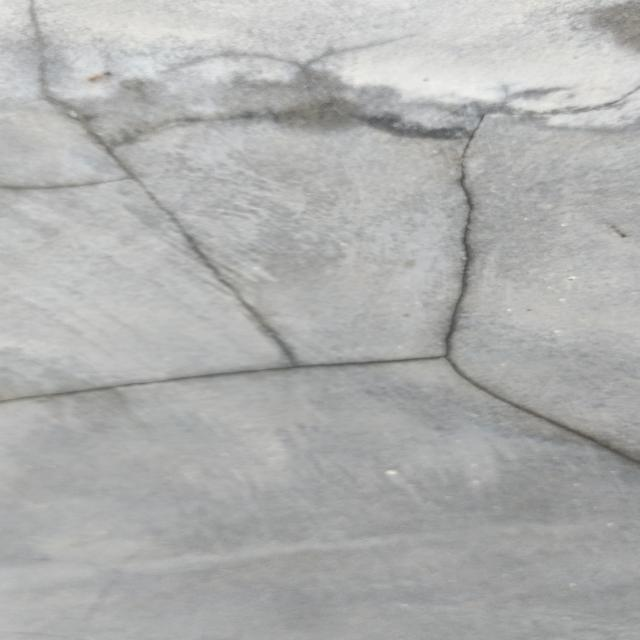Crack: (20, 18, 640, 504)
